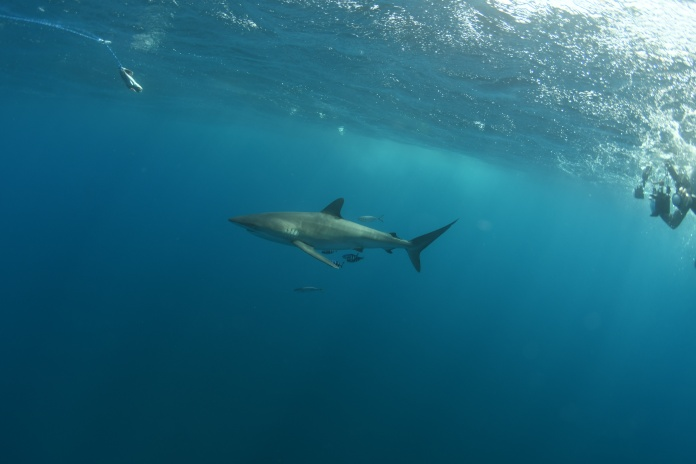Sedoso: (216, 189, 473, 285)
